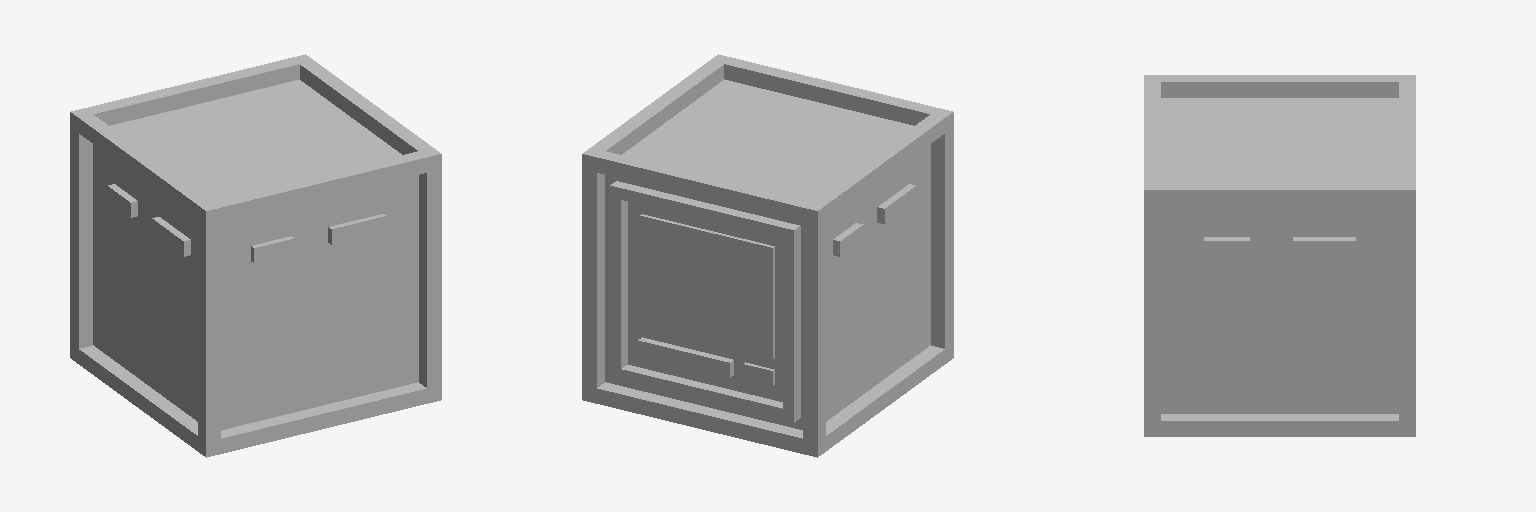
Rendered from sim_chamber.obj.
The picture shows the model from 3 angles: view 1: azimuth 30°, elevation 25°; view 2: azimuth 150°, elevation 25°; view 3: azimuth 270°, elevation 25°; orthographic projection.
Parts seen in each view (by area): view 1: base, stripes, top; view 2: stripes, front, top, base; view 3: base, stripes, top.
Boxes of the visible parts, x1=… form: base: x1=93, y1=144, x2=418, y2=429; stripes: x1=70, y1=54, x2=441, y2=457; top: x1=79, y1=79, x2=426, y2=438; stripes: x1=582, y1=54, x2=953, y2=457; front: x1=605, y1=175, x2=802, y2=429; top: x1=597, y1=79, x2=944, y2=438; base: x1=826, y1=144, x2=930, y2=421; base: x1=1161, y1=206, x2=1398, y2=413; stripes: x1=1144, y1=75, x2=1415, y2=436; top: x1=1161, y1=98, x2=1398, y2=420.
Size of the model in its own units: 1 by 1 by 1.